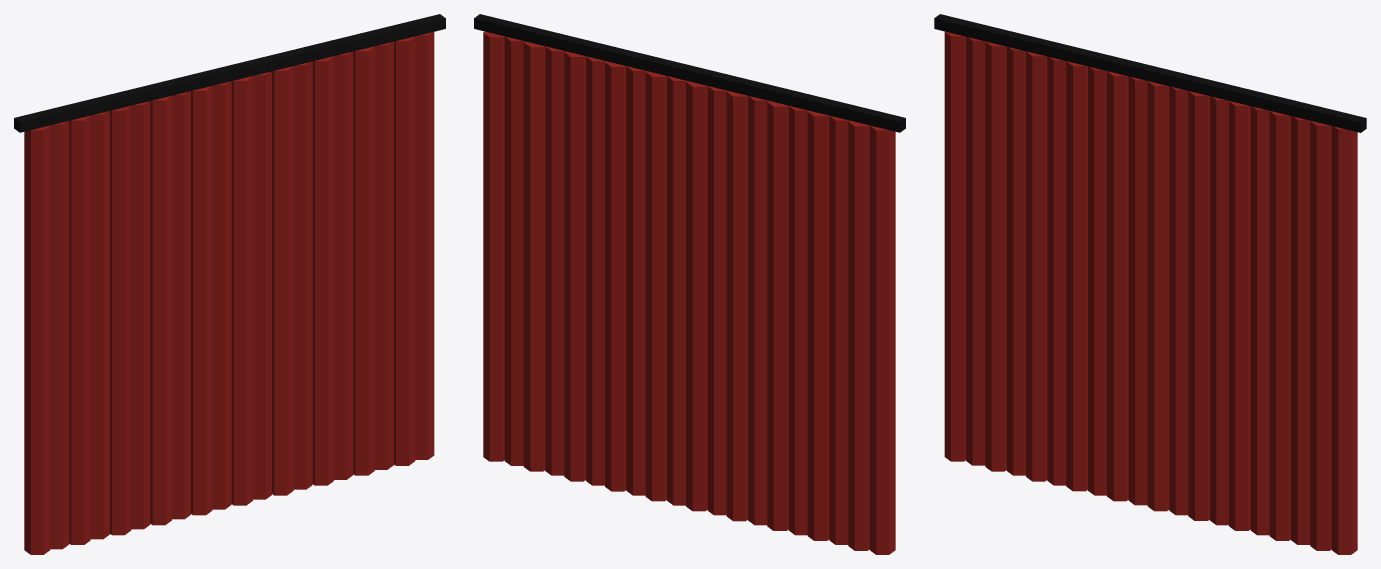
Rendered from school.hall.stage_curtain.glb.
The picture shows the model from 3 angles, left to right: view 1: azimuth 30°, elevation 25°; view 2: azimuth 150°, elevation 25°; view 3: azimuth 330°, elevation 25°; orthographic projection.
Visible parts, largest first — view 1: main__fabric_red, main__plastic_black; view 2: main__fabric_red, main__plastic_black; view 3: main__fabric_red, main__plastic_black.
Part boxes in pixels (x1,y1,x2,y2): main__fabric_red: (24,32,434,554); main__plastic_black: (14,14,445,132); main__fabric_red: (483,31,895,554); main__plastic_black: (474,14,905,132); main__fabric_red: (944,31,1357,554); main__plastic_black: (934,14,1366,132).
Bounding box in the file's own units: 4.2 × 4.1 × 0.24.
